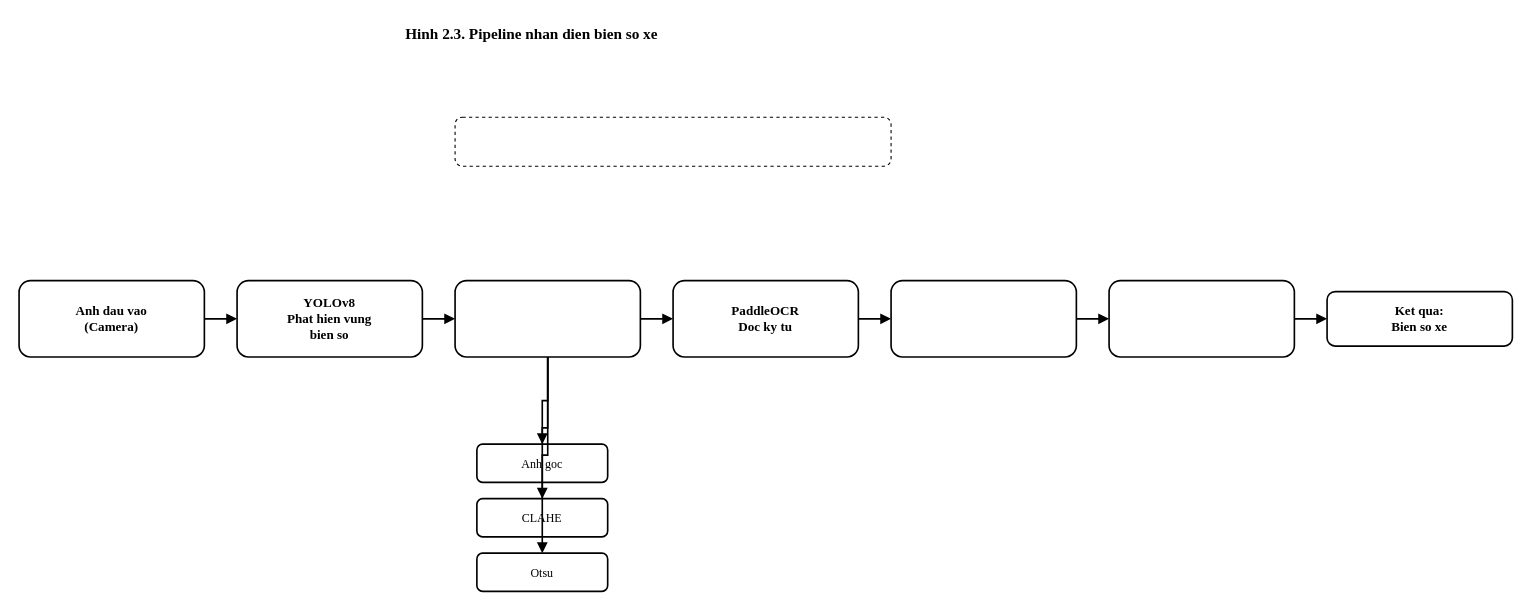
Some shapes in this 1533 by 610 pixel diagram are drawn without their labels. The shapes that lost their labels are listed below. From the top down, each one's centre as x and y in pixels, then its label:
pixel 672 141: Thu vien: YOLOv8, PaddleOCR Tu viet: Tien xu ly, Hau xu ly, Chon ket qua
pixel 547 318: Tien xu ly anh (3 phien ban)
pixel 983 318: Hau xu ly theo quy tac VN
pixel 1201 318: Chon ket qua tot nhat
